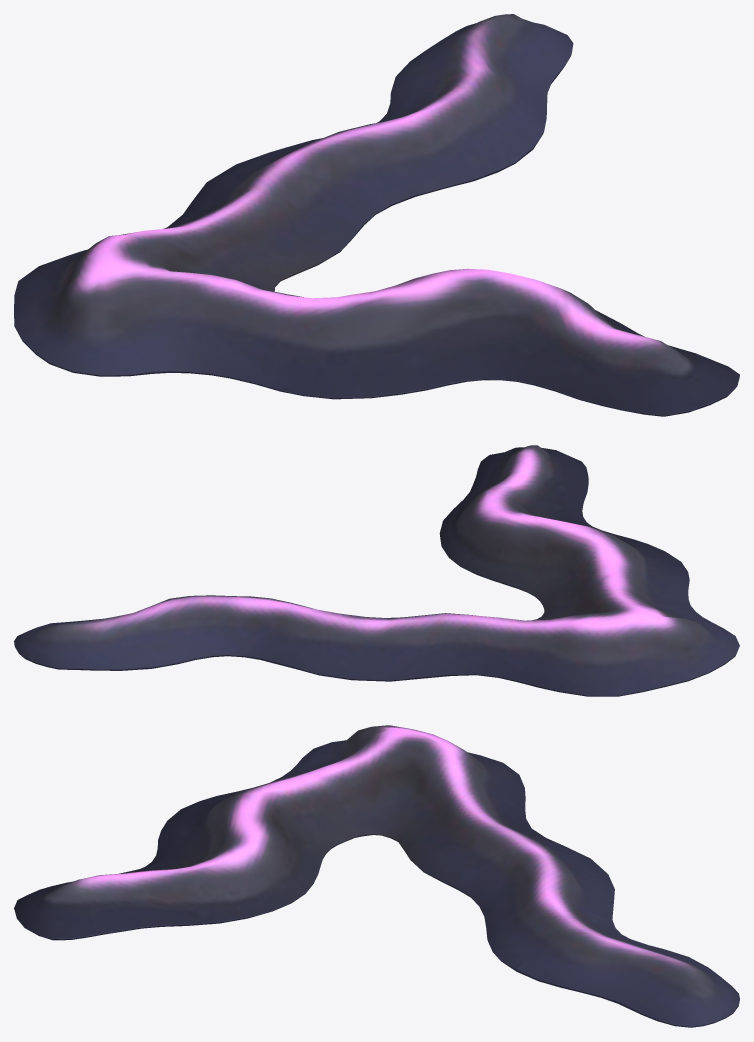
The model's file is caos_sts_chaosgrowth_02d_v35.glb.
3 renders of one model, top to bottom at view 1: azimuth 30°, elevation 25°; view 2: azimuth 150°, elevation 25°; view 3: azimuth 270°, elevation 25°, orthographic. The views are drawn at different scales.
Visible parts, largest first — view 1: caos_sts_chaosgrowth_02d; view 2: caos_sts_chaosgrowth_02d; view 3: caos_sts_chaosgrowth_02d.
Part boxes in pixels (box(x1,y1,x2,y2)): caos_sts_chaosgrowth_02d: box(14, 14, 739, 416); caos_sts_chaosgrowth_02d: box(14, 445, 739, 696); caos_sts_chaosgrowth_02d: box(14, 725, 739, 1027).
Size of the model in its own units: 9.59 by 0.7368 by 10.24.
Materials: 1 (1 with a texture image).
